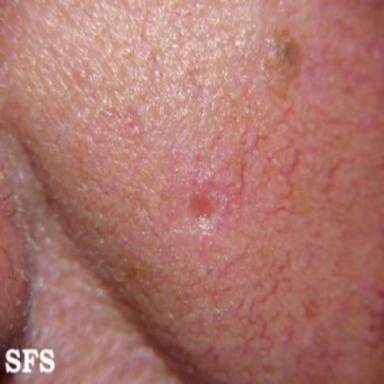basal-cell-carcinoma: (188, 195, 213, 219)
